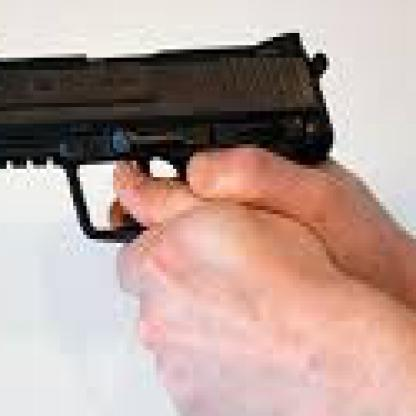gun: (0, 17, 333, 252)
